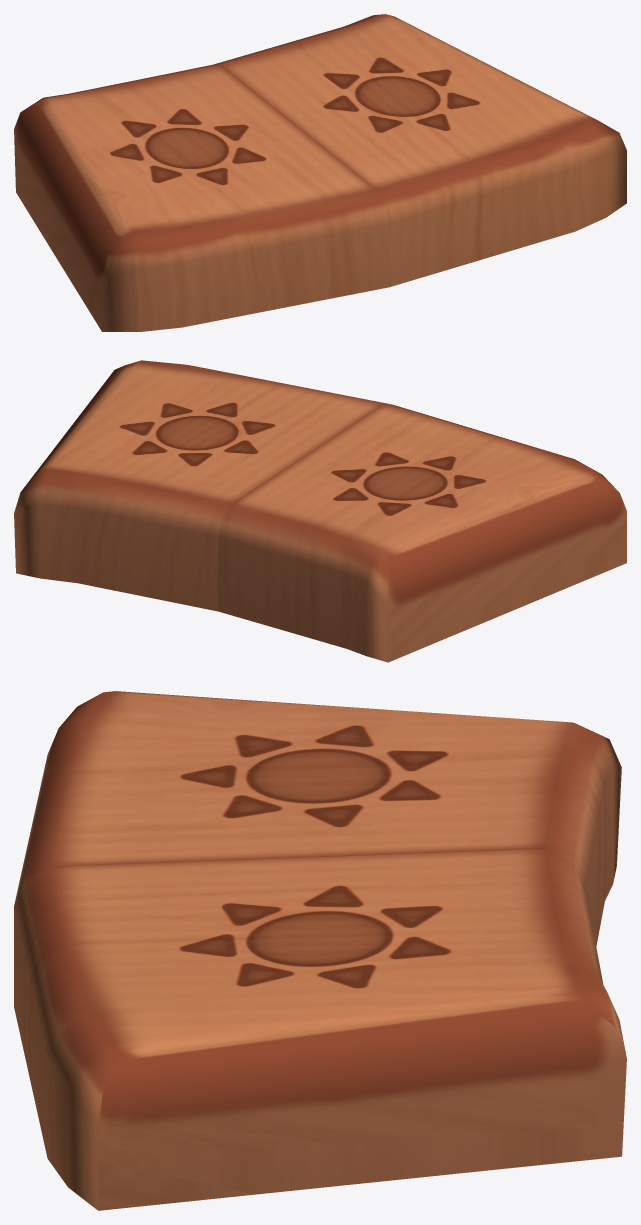
The model's file is 12ring_Curropted.fbx.
The picture shows the model from 3 angles, top to bottom: view 1: azimuth 30°, elevation 25°; view 2: azimuth 150°, elevation 25°; view 3: azimuth 270°, elevation 25°; orthographic projection. The views are drawn at different scales.
Visible parts, largest first — view 1: Corrupt_R, Corrupt_L; view 2: Corrupt_R, Corrupt_L; view 3: Corrupt_L, Corrupt_R.
Part boxes in pixels (bbox=[...]): Corrupt_R: bbox=[14, 64, 389, 331]; Corrupt_L: bbox=[214, 14, 626, 287]; Corrupt_R: bbox=[218, 403, 626, 662]; Corrupt_L: bbox=[14, 360, 388, 611]; Corrupt_L: bbox=[14, 849, 626, 1210]; Corrupt_R: bbox=[14, 691, 621, 945].
Size of the model in its own units: 165 by 30.06 by 106.
